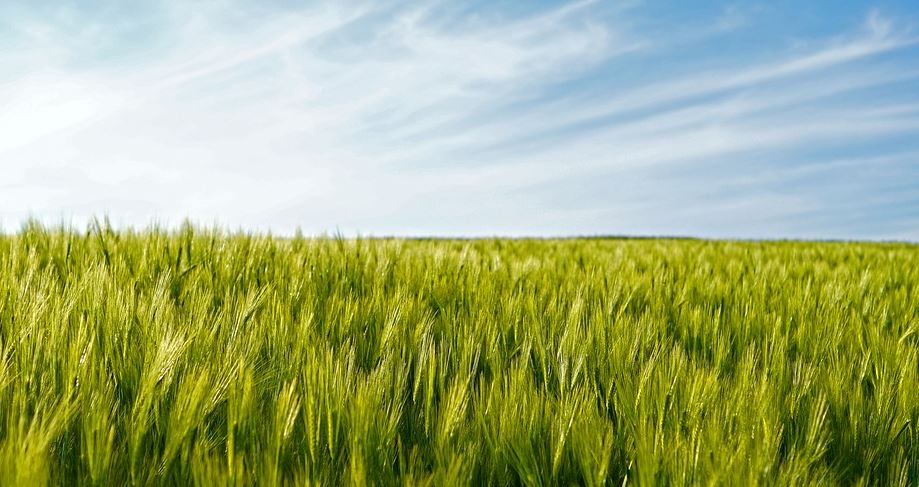Wheat: (69, 229, 818, 451)
